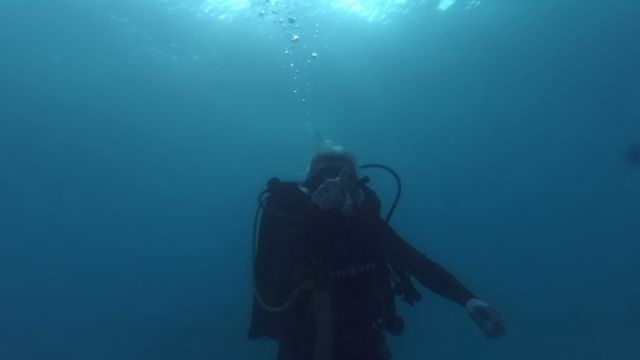Hand: (303, 165, 376, 227), (452, 292, 511, 346)
